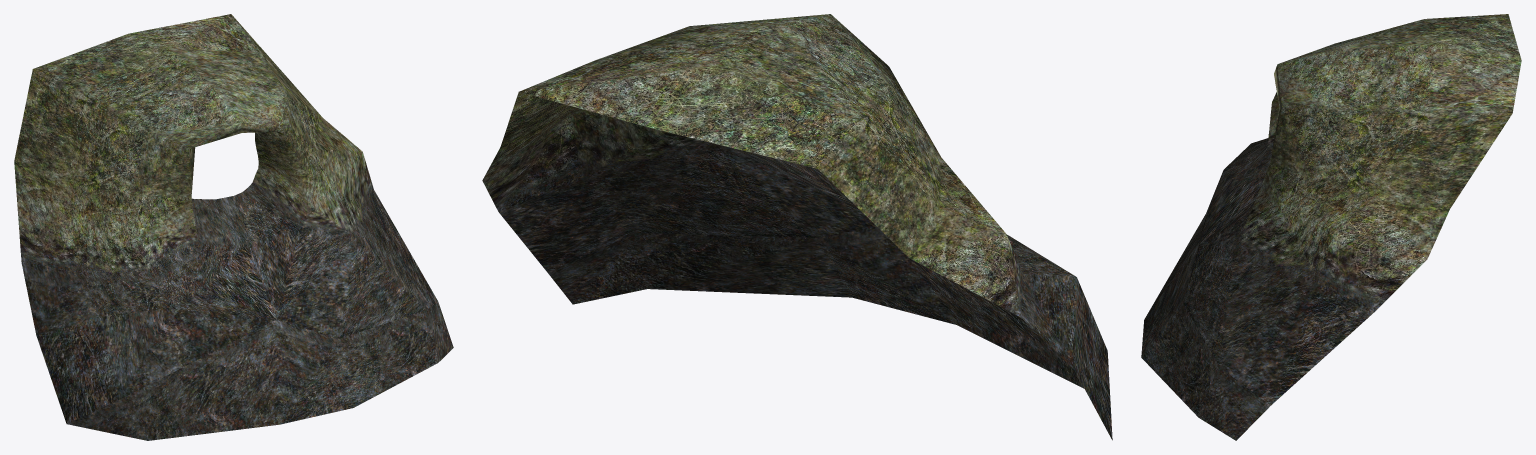
The model's file is thm_all_cave_s02_damprock_mirror_r0_mesh_l3.fbx.
3 views of the same model, side by side, from view 1: azimuth 30°, elevation 25°; view 2: azimuth 150°, elevation 25°; view 3: azimuth 270°, elevation 25° (orthographic). The views are drawn at different scales.
Visible parts, largest first — view 1: mesh_node; view 2: mesh_node; view 3: mesh_node.
Part boxes in pixels (bbox=[...]): mesh_node: bbox=[14, 14, 453, 440]; mesh_node: bbox=[482, 14, 1112, 440]; mesh_node: bbox=[1141, 14, 1521, 440].
Bounding box in the file's own units: 48.32 × 33.74 × 39.28.
